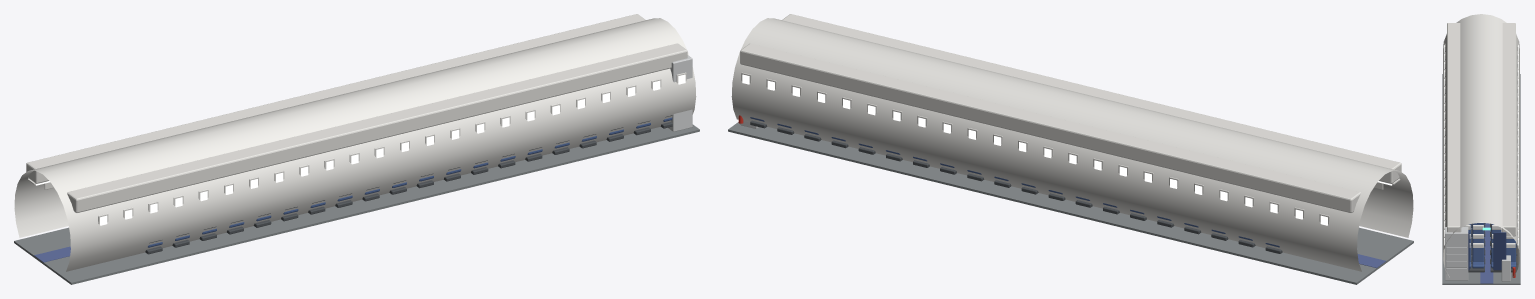
The model's file is cabin.glb.
3 renders of one model, left to right at view 1: azimuth 30°, elevation 25°; view 2: azimuth 150°, elevation 25°; view 3: azimuth 270°, elevation 25°, orthographic. The views are drawn at different scales.
Visible parts, largest first — view 1: Cabin sidewall, Overhead bin, Flight deck grey, Dark metal, Cabin window daylight, Cabin seat blue, Galley steel; view 2: Cabin sidewall, Overhead bin, Flight deck grey, Dark metal, Cabin window daylight, Cabin seat blue; view 3: Cabin sidewall, Overhead bin, Galley steel, Flight deck grey, Cabin seat blue, Curtain navy, Aisle carpet, Cabin window daylight, Dark metal, Headrest cover white.
Part boxes in pixels (x1=…): Cabin sidewall: x1=14, y1=18, x2=696, y2=271; Overhead bin: x1=26, y1=14, x2=687, y2=224; Flight deck grey: x1=14, y1=124, x2=699, y2=284; Dark metal: x1=145, y1=115, x2=672, y2=254; Cabin window daylight: x1=100, y1=74, x2=685, y2=225; Cabin seat blue: x1=148, y1=117, x2=672, y2=247; Galley steel: x1=667, y1=55, x2=692, y2=131; Cabin sidewall: x1=731, y1=18, x2=1413, y2=271; Overhead bin: x1=740, y1=14, x2=1401, y2=224; Flight deck grey: x1=728, y1=122, x2=1413, y2=284; Dark metal: x1=750, y1=120, x2=1282, y2=253; Cabin window daylight: x1=742, y1=74, x2=1327, y2=225; Cabin seat blue: x1=750, y1=117, x2=1279, y2=247; Cabin sidewall: x1=1443, y1=14, x2=1519, y2=277; Overhead bin: x1=1444, y1=23, x2=1518, y2=248; Galley steel: x1=1445, y1=227, x2=1510, y2=281; Flight deck grey: x1=1442, y1=74, x2=1520, y2=284; Cabin seat blue: x1=1468, y1=223, x2=1516, y2=268; Curtain navy: x1=1468, y1=232, x2=1506, y2=270; Aisle carpet: x1=1480, y1=223, x2=1493, y2=283; Cabin window daylight: x1=1444, y1=45, x2=1518, y2=245; Dark metal: x1=1468, y1=223, x2=1517, y2=272; Headrest cover white: x1=1464, y1=225, x2=1515, y2=247.
Bounding box in the file's own units: 19 × 2.59 × 3.
